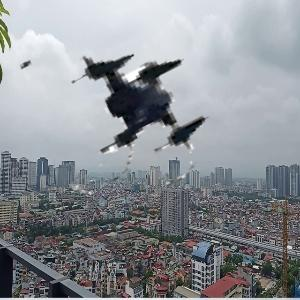drone: (26, 13, 224, 211)
